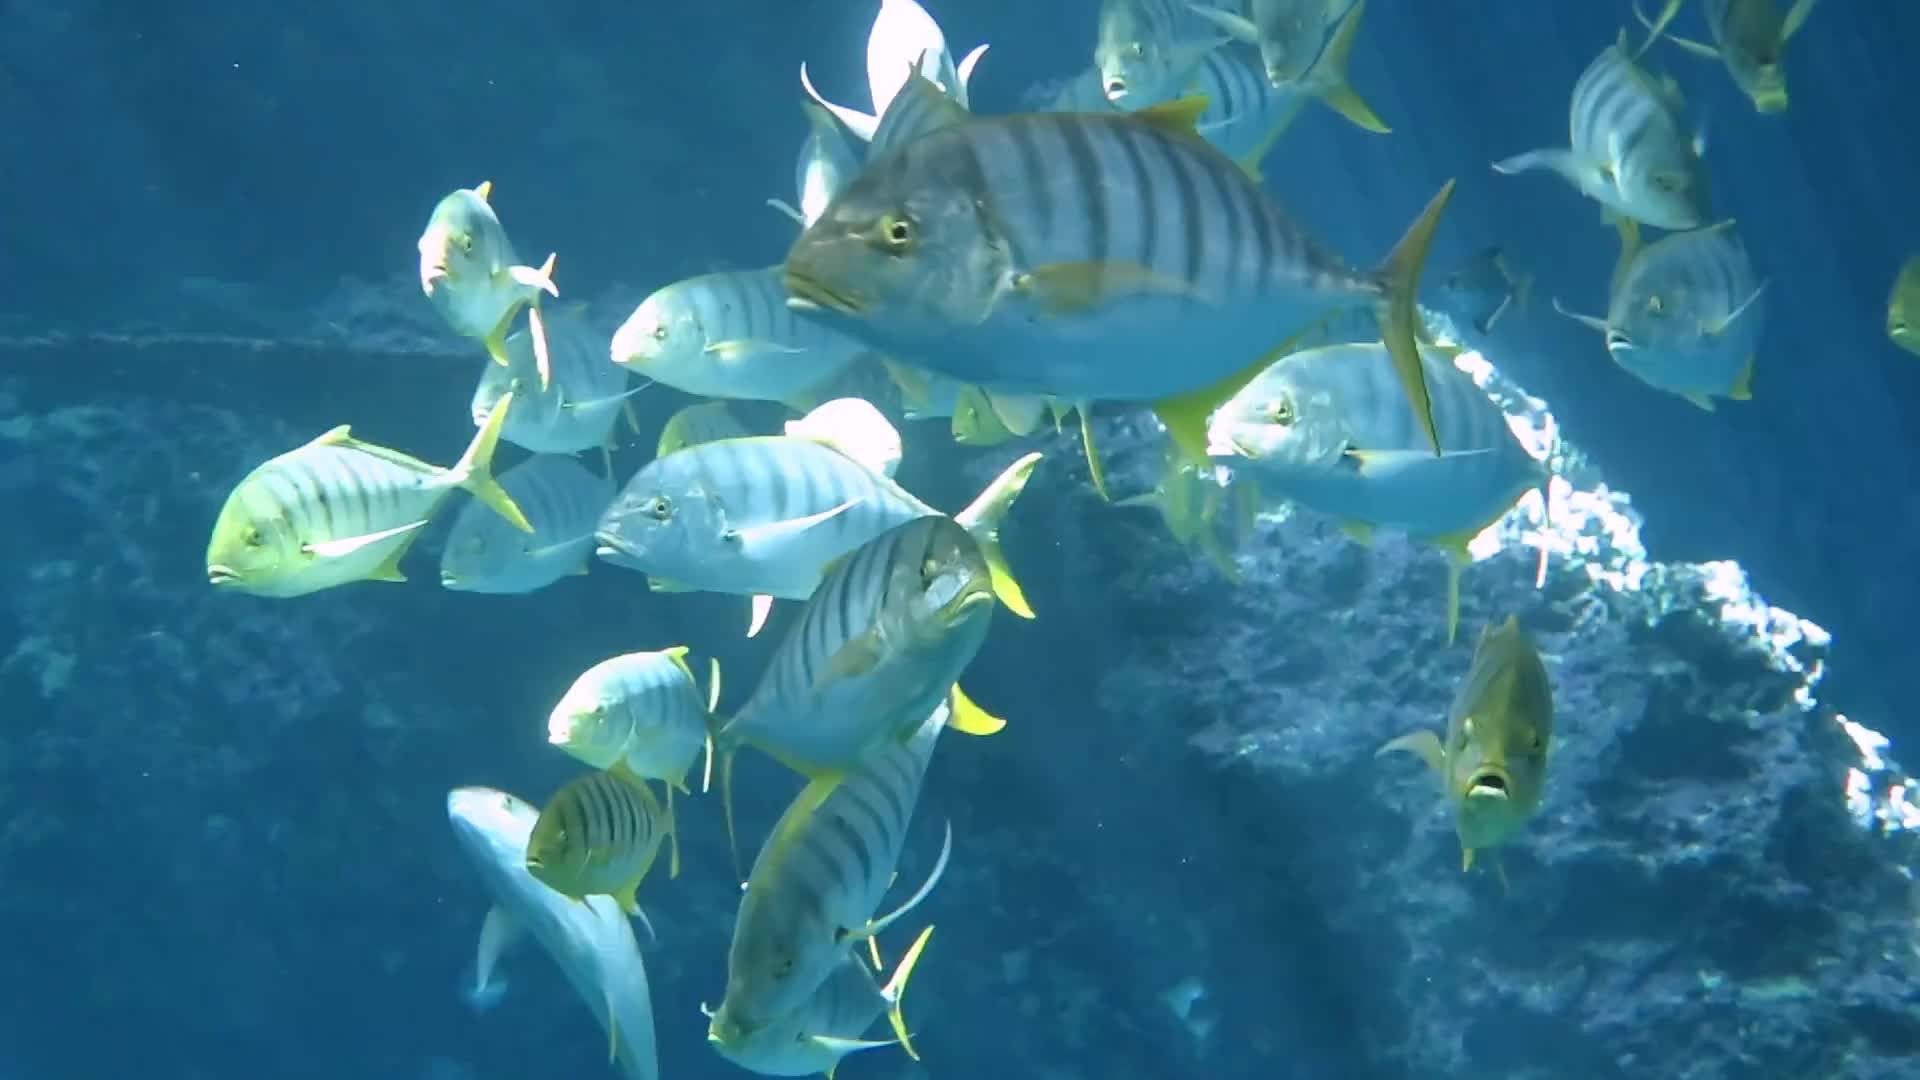Gnathanodon speciosus: (765, 91, 1455, 458), (713, 707, 993, 1035), (570, 425, 1031, 611), (724, 516, 1000, 756), (1200, 363, 1580, 534), (187, 400, 524, 591), (1379, 603, 1563, 860), (1586, 233, 1789, 410), (584, 268, 866, 392), (1536, 37, 1716, 220), (433, 452, 622, 611), (400, 178, 564, 348), (545, 646, 729, 777), (531, 774, 688, 903), (1063, 11, 1209, 107)
